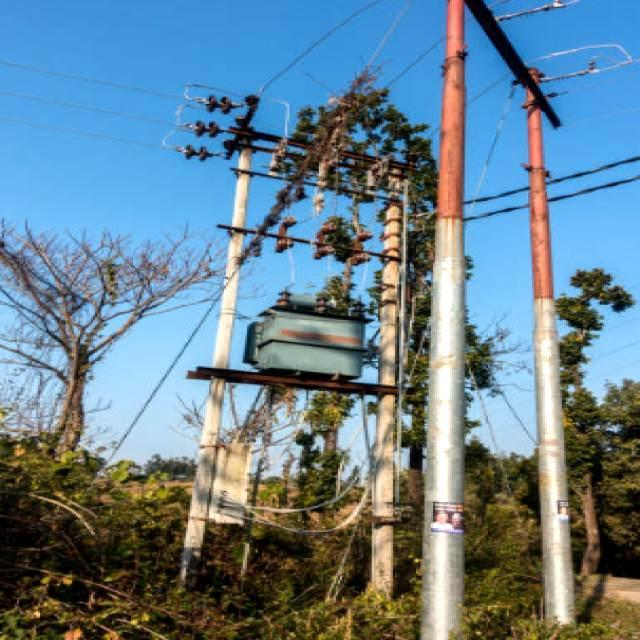light_pole: (181, 74, 441, 440)
